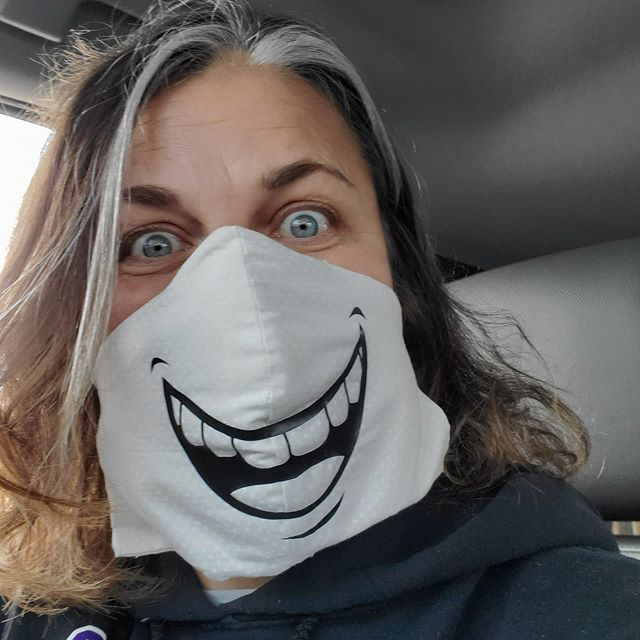homemade: (68, 267, 448, 579)
